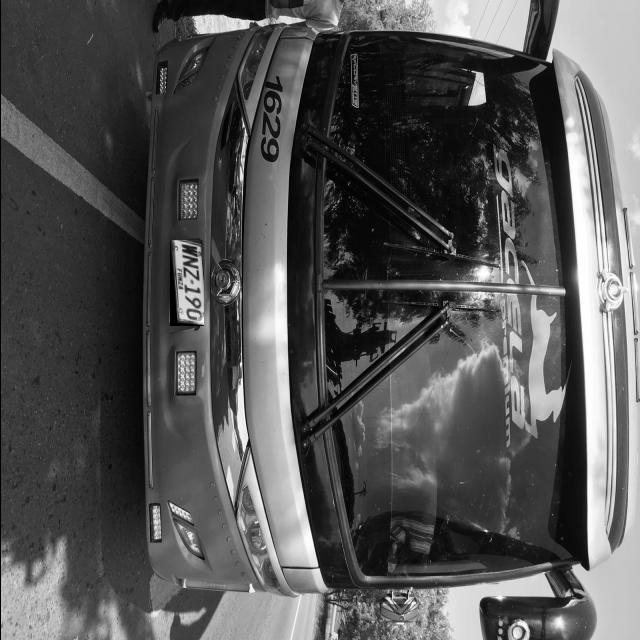plate: (168, 240, 202, 326)
